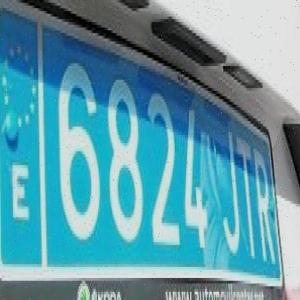Plate: (0, 0, 290, 300)
